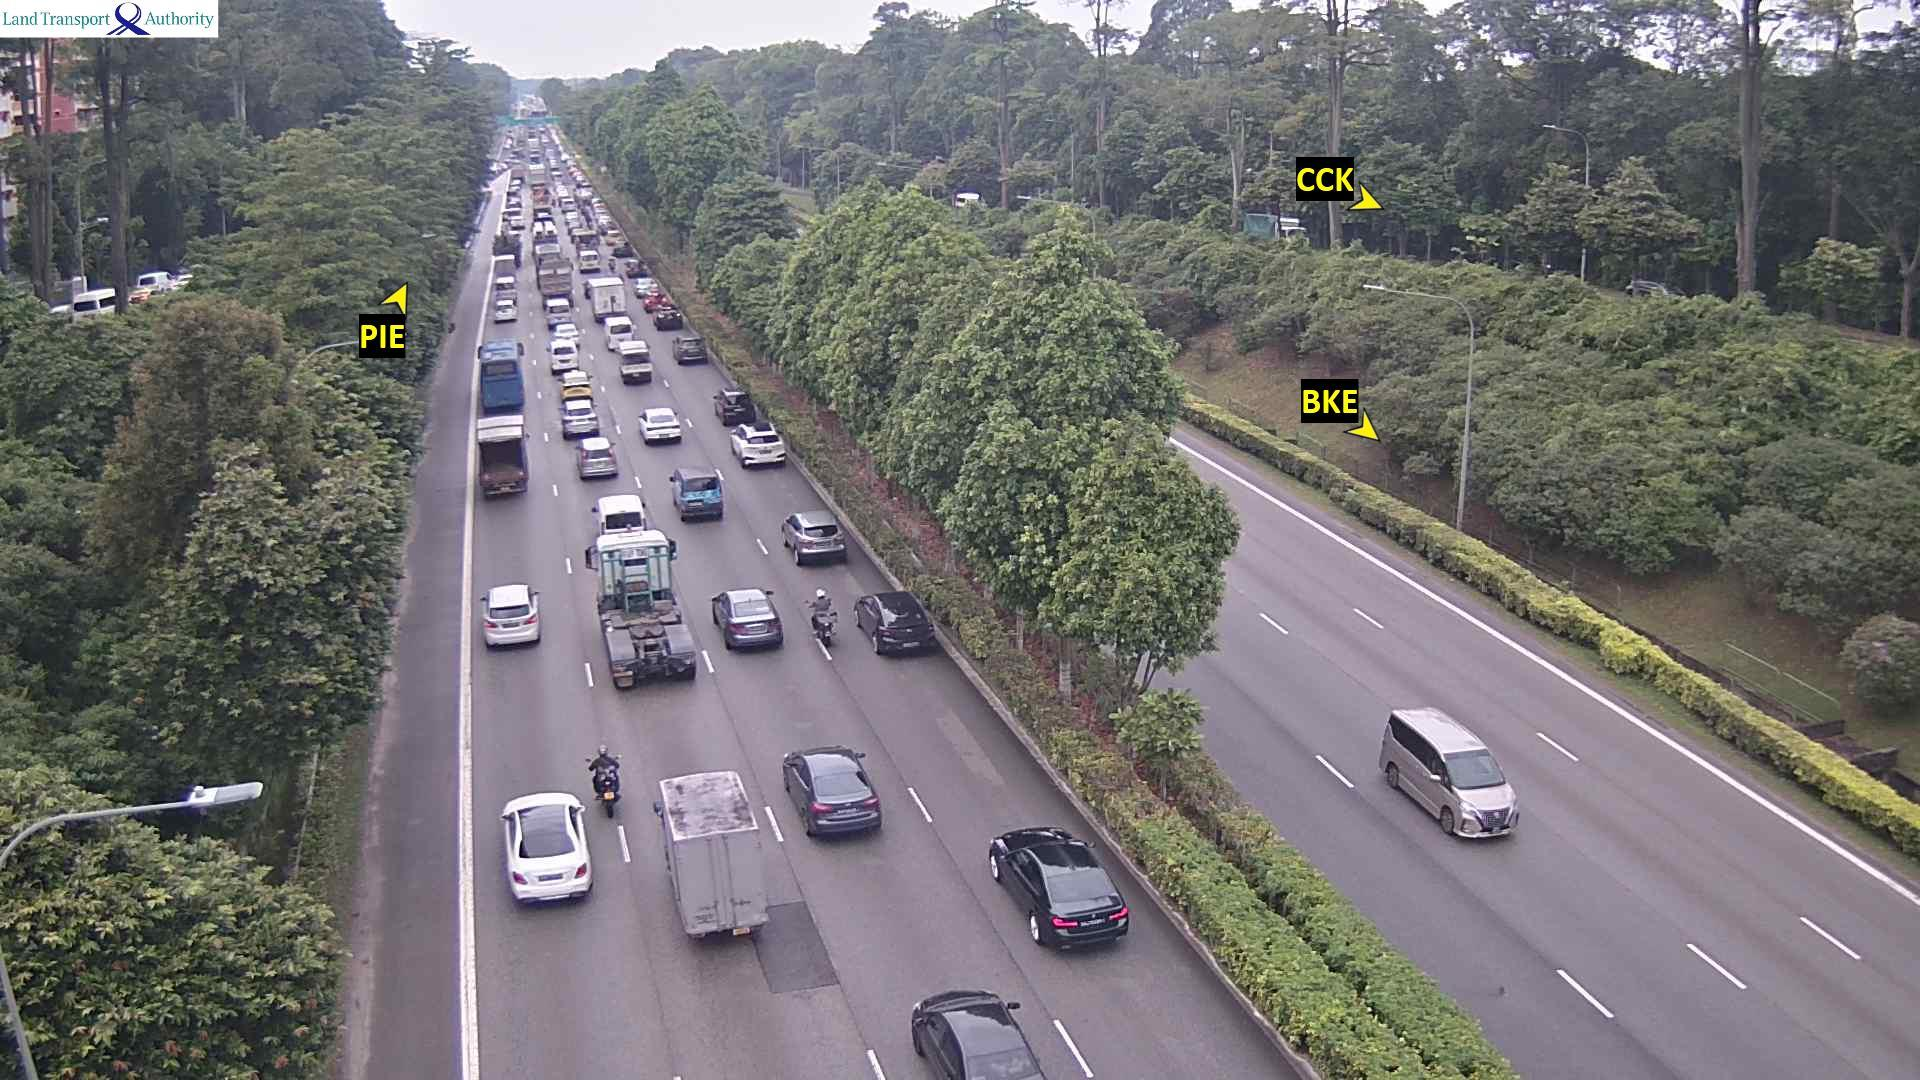incoming: (1429, 749, 1525, 840)
